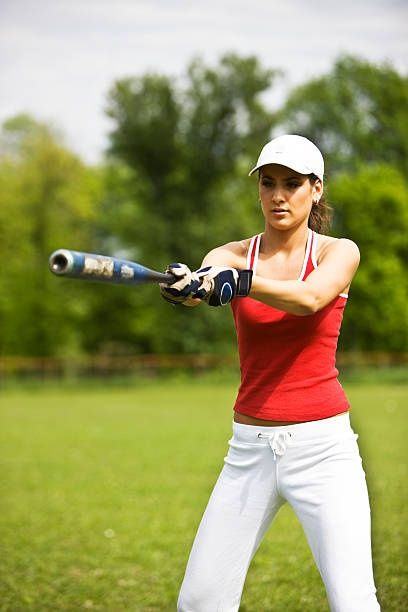bita: (47, 247, 247, 288)
